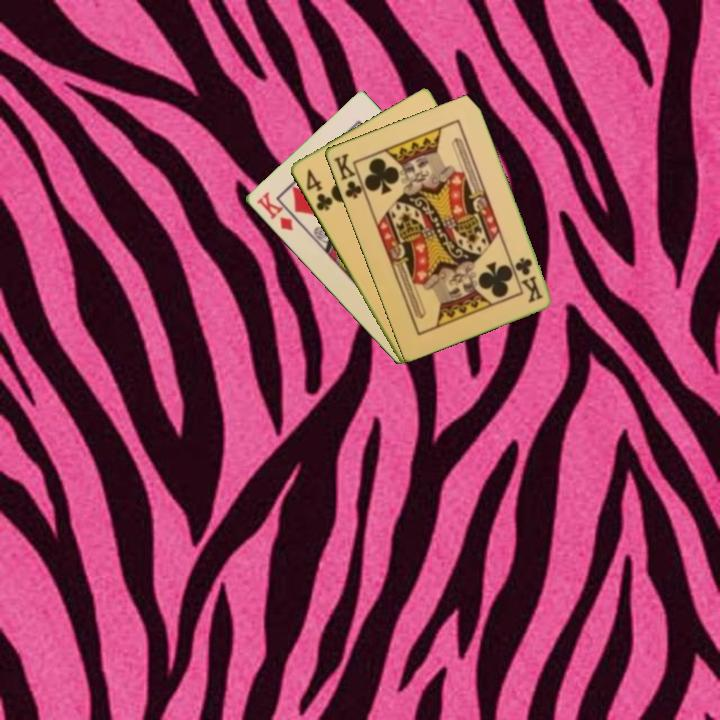4c: (302, 165, 335, 214)
Kc: (330, 150, 368, 202), (511, 253, 546, 305)
Kd: (252, 188, 296, 234)
